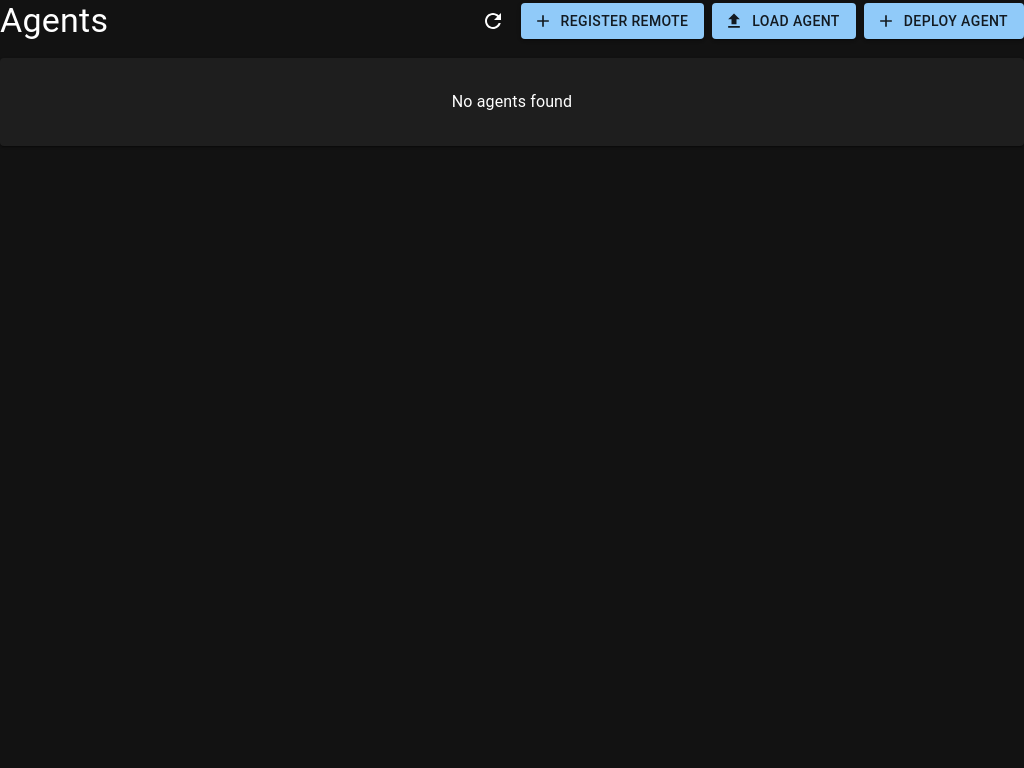
Test case: AgentsPage › Register Remote Agent › Given register remote dialog open and AID empty, Then Register button is disabled
Click the button "Register Remote" at (612, 21), box x1=521 y1=3 x2=704 y2=39
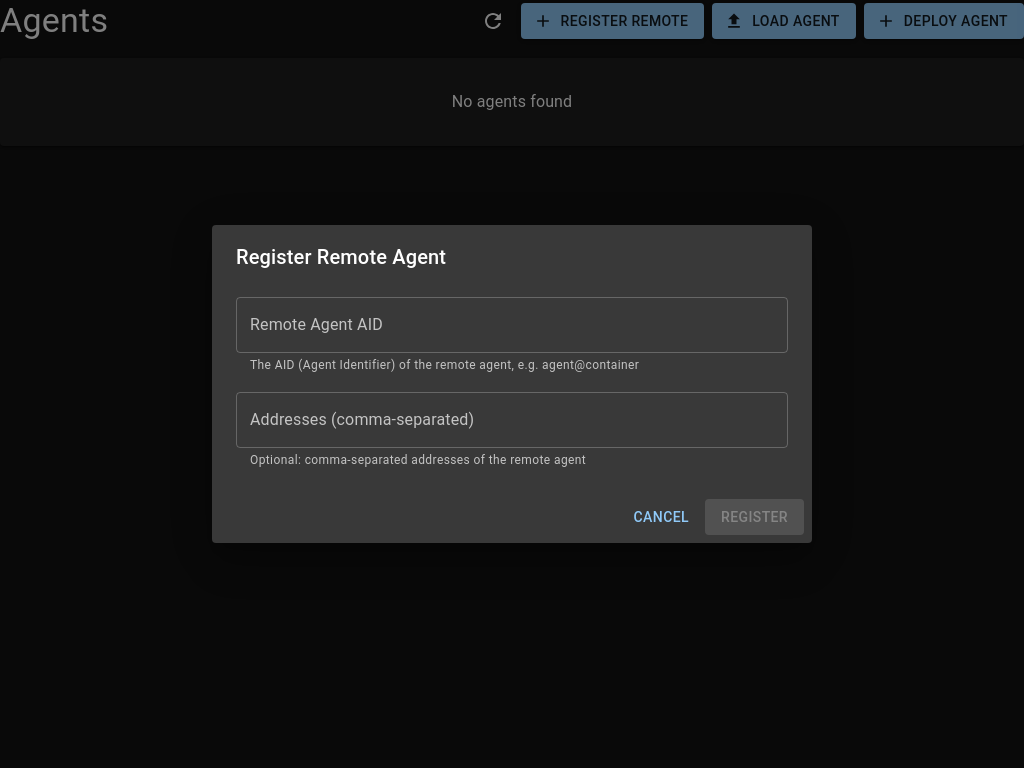
expect the field labelled "Remote Agent AID" is shown: met, box x1=236 y1=297 x2=788 y2=353
expect the button "Register" is disabled: met, box x1=705 y1=499 x2=804 y2=535
